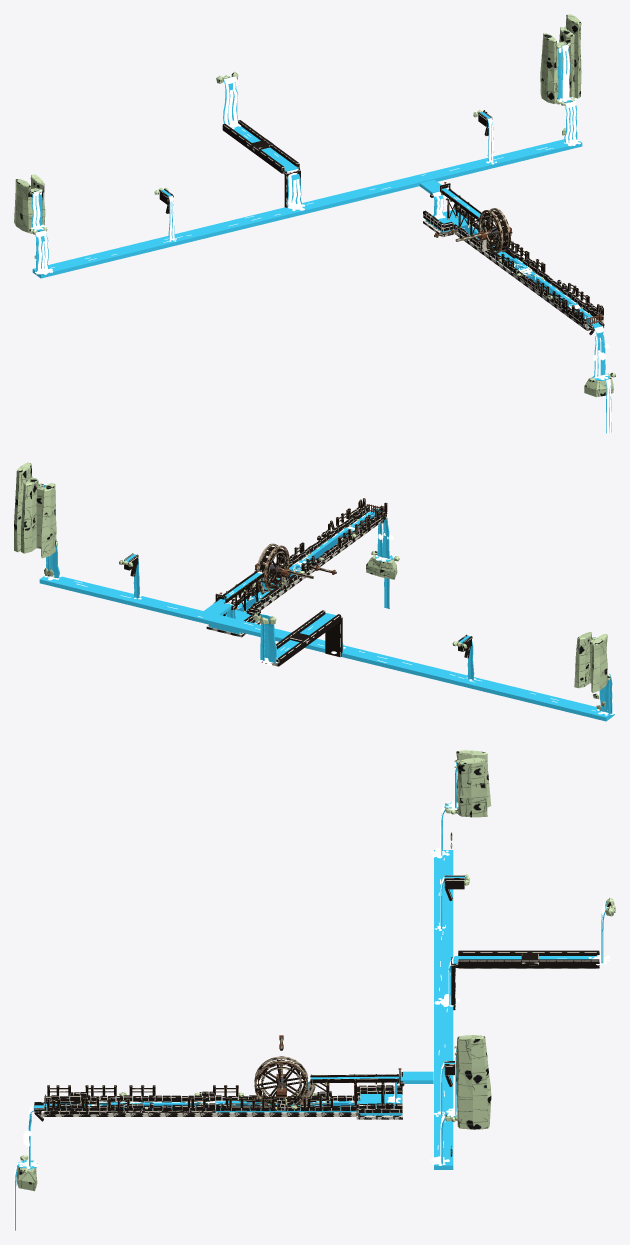
Rendered from LOBBY_05_WATER_SYSTEM_e4dec7.fbx.
3 renders of one model, top to bottom at view 1: azimuth 30°, elevation 25°; view 2: azimuth 150°, elevation 25°; view 3: azimuth 270°, elevation 25°, orthographic. The views are drawn at different scales.
Visible parts, largest first — view 1: WATER_Waterfalls__Water, WATER_Waterfalls__Cliff_Rock, WATER_Waterfalls__Water_Fall, WATER_Pool_River__Water, WATER_Waterfalls__Stone_Light, WATER_Waterfalls__Cliff_Rock_Dark, WATER_Waterfalls__Foam_g15_16, WATER_Pool_River__Stone_Light, WATER_River_Fences__Wood_Dark_C, WATER_Waterwheel__Wood_Dark_B, WATER_Pool_River__Stone_Dark_B, WATER_Pool_River__Stone_Dark_C; view 2: WATER_Waterfalls__Water, WATER_Waterfalls__Cliff_Rock, WATER_Pool_River__Water, WATER_Waterfalls__Cliff_Rock_Dark, WATER_Waterfalls__Stone_Light, WATER_Waterfalls__Cliff_Rock_B, WATER_Pool_River__Stone_Light, WATER_Waterwheel__Wood_Dark_B, WATER_River_Fences__Wood_Dark_C, WATER_Waterfalls__Stone_Dark, WATER_Pool_River__Stone_Dark_B, WATER_Pool_River__Stone_Dark_C (+6 smaller); view 3: WATER_Waterfalls__Water, WATER_Waterfalls__Cliff_Rock, WATER_Waterfalls__Stone_Light, WATER_Pool_River__Stone_Light, WATER_Pool_River__Water, WATER_Waterfalls__Cliff_Rock_B, WATER_Pool_River__Stone_Dark_C, WATER_Pool_River__Stone_Dark_B, WATER_River_Fences__Wood_Dark_C, WATER_Pool_River__Stone_Light_B, WATER_Waterwheel__Wood_Dark_B, WATER_Pool_River__Wood_Plank_C (+2 smaller).
Boxes of the visible parts, x1=… form: WATER_Waterfalls__Water: x1=31, y1=44, x2=582, y2=278; WATER_Waterfalls__Cliff_Rock: x1=29, y1=14, x2=581, y2=231; WATER_Waterfalls__Water_Fall: x1=32, y1=50, x2=576, y2=270; WATER_Pool_River__Water: x1=425, y1=190, x2=611, y2=433; WATER_Waterfalls__Stone_Light: x1=159, y1=111, x2=492, y2=205; WATER_Waterfalls__Cliff_Rock_Dark: x1=14, y1=41, x2=570, y2=258; WATER_Waterfalls__Foam_g15_16: x1=31, y1=76, x2=298, y2=274; WATER_Pool_River__Stone_Light: x1=427, y1=204, x2=604, y2=328; WATER_River_Fences__Wood_Dark_C: x1=492, y1=227, x2=603, y2=320; WATER_Waterwheel__Wood_Dark_B: x1=434, y1=208, x2=510, y2=253; WATER_Pool_River__Stone_Dark_B: x1=423, y1=207, x2=604, y2=335; WATER_Pool_River__Stone_Dark_C: x1=426, y1=217, x2=590, y2=330; WATER_Waterfalls__Water: x1=39, y1=485, x2=614, y2=721; WATER_Waterfalls__Cliff_Rock: x1=14, y1=462, x2=467, y2=648; WATER_Pool_River__Water: x1=209, y1=509, x2=393, y2=634; WATER_Waterfalls__Cliff_Rock_Dark: x1=36, y1=486, x2=607, y2=709; WATER_Waterfalls__Stone_Light: x1=124, y1=553, x2=472, y2=666; WATER_Waterfalls__Cliff_Rock_B: x1=574, y1=632, x2=610, y2=688; WATER_Pool_River__Stone_Light: x1=227, y1=507, x2=380, y2=622; WATER_Waterwheel__Wood_Dark_B: x1=256, y1=543, x2=336, y2=591; WATER_River_Fences__Wood_Dark_C: x1=238, y1=498, x2=387, y2=597; WATER_Waterfalls__Stone_Dark: x1=130, y1=556, x2=472, y2=666; WATER_Pool_River__Stone_Dark_B: x1=206, y1=505, x2=387, y2=637; WATER_Pool_River__Stone_Dark_C: x1=250, y1=516, x2=386, y2=622; WATER_Waterfalls__Water: x1=395, y1=762, x2=606, y2=1169; WATER_Waterfalls__Cliff_Rock: x1=445, y1=760, x2=614, y2=1129; WATER_Waterfalls__Stone_Light: x1=399, y1=875, x2=599, y2=1086; WATER_Pool_River__Stone_Light: x1=34, y1=1085, x2=402, y2=1114; WATER_Pool_River__Water: x1=15, y1=1076, x2=402, y2=1230; WATER_Waterfalls__Cliff_Rock_B: x1=446, y1=757, x2=487, y2=1048; WATER_Pool_River__Stone_Dark_C: x1=41, y1=1084, x2=394, y2=1116; WATER_Pool_River__Stone_Dark_B: x1=34, y1=1086, x2=402, y2=1121; WATER_River_Fences__Wood_Dark_C: x1=47, y1=1085, x2=333, y2=1108; WATER_Pool_River__Stone_Light_B: x1=44, y1=1085, x2=402, y2=1114; WATER_Waterwheel__Wood_Dark_B: x1=254, y1=1037, x2=308, y2=1105; WATER_Pool_River__Wood_Plank_C: x1=293, y1=1074, x2=398, y2=1104.
Size of the model in its own units: 266 by 108 by 208.
Materials: 10 (4 with a texture image).
